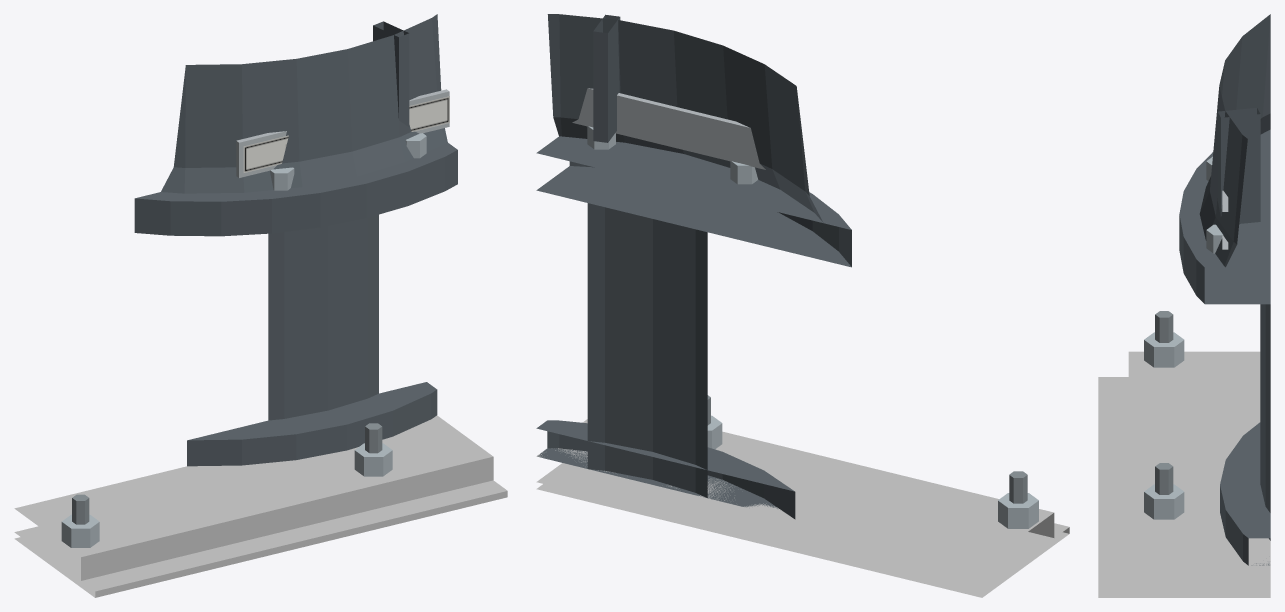
File: cell_23.obj
The picture shows the model from 3 angles, left to right: view 1: azimuth 30°, elevation 25°; view 2: azimuth 150°, elevation 25°; view 3: azimuth 270°, elevation 25°; orthographic projection. The views are drawn at different scales.
Bounding box in the file's own units: 1 × 1 × 0.34.
